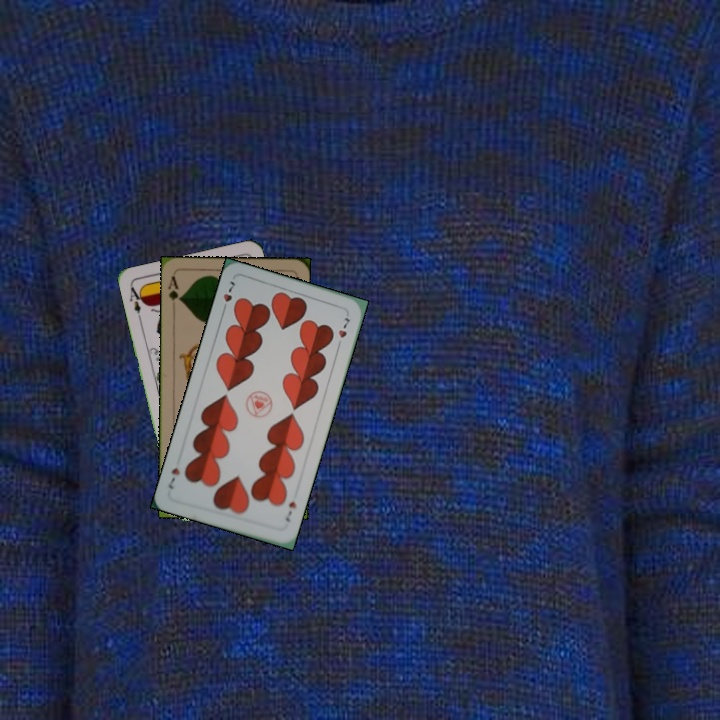EA: (125, 282, 146, 316)
GA: (164, 272, 184, 312)
H7: (218, 277, 238, 315), (282, 497, 299, 524)
